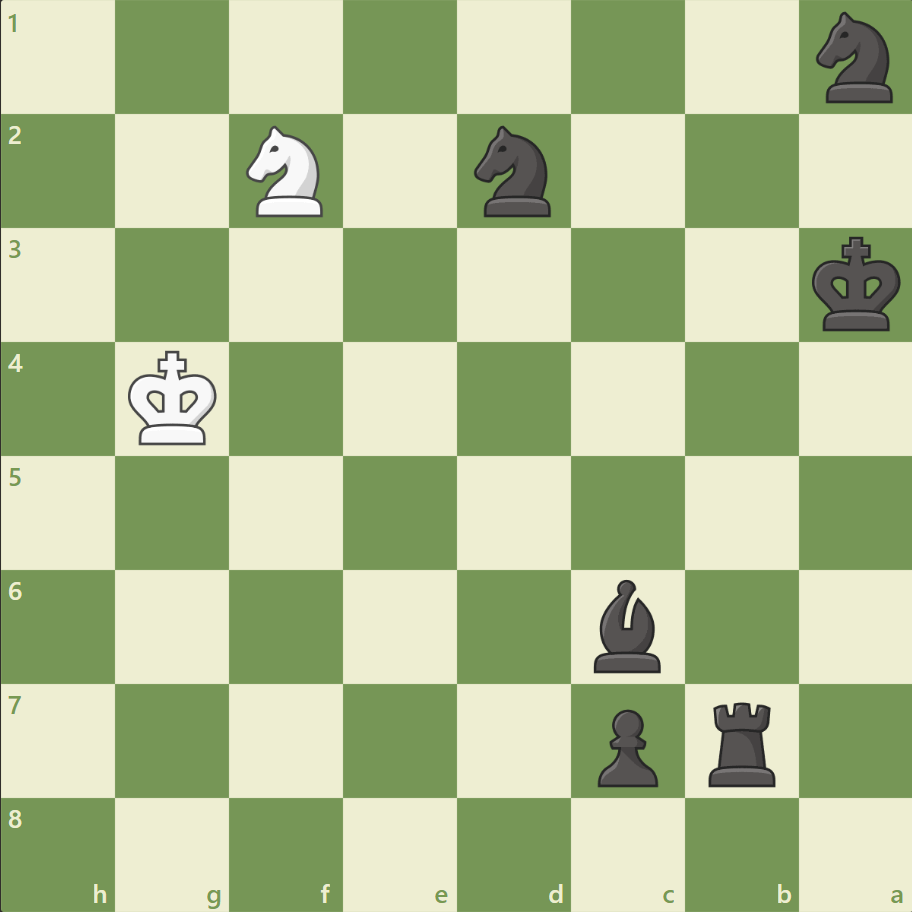K: (124, 344, 224, 452)
N: (238, 121, 335, 223)
b: (585, 574, 669, 676)
k: (806, 231, 906, 339)
n: (806, 7, 903, 110), (465, 121, 562, 223)
p: (588, 700, 662, 791)
r: (700, 693, 783, 790)
